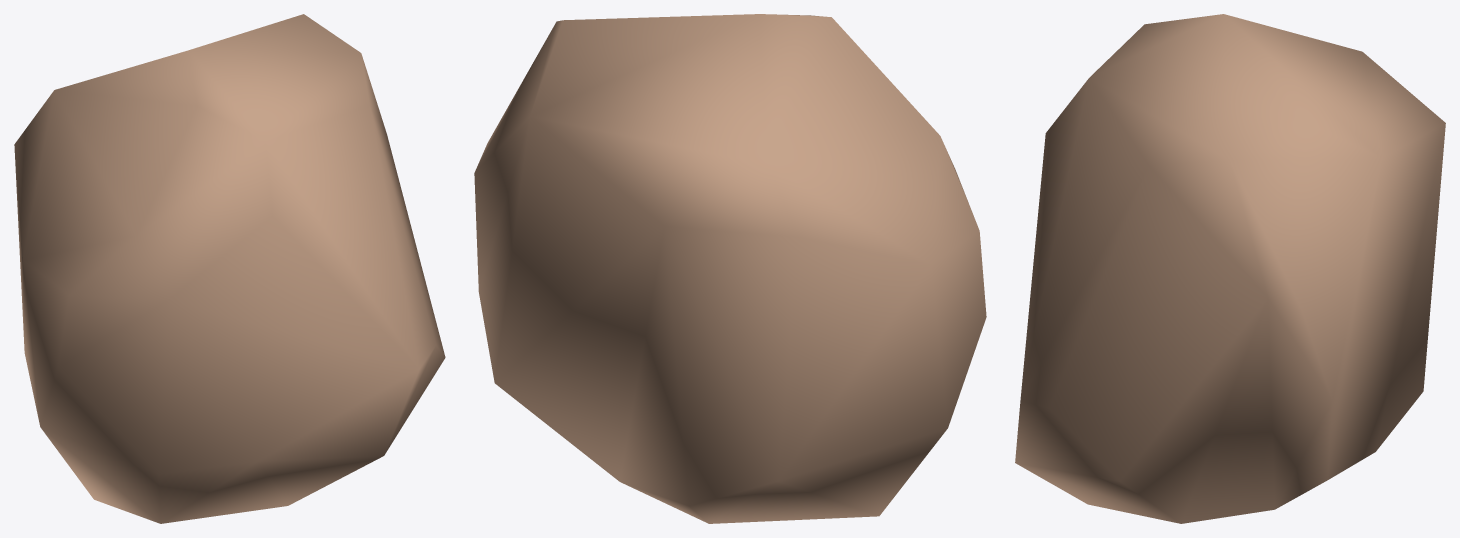
File: ZMOBA_Rock_B_6.FBX
3 renders of one model, left to right at view 1: azimuth 30°, elevation 25°; view 2: azimuth 150°, elevation 25°; view 3: azimuth 270°, elevation 25°, orthographic. The views are drawn at different scales.
Visible parts, largest first — view 1: ZMOBA_Rock_B_6; view 2: ZMOBA_Rock_B_6; view 3: ZMOBA_Rock_B_6.
Part boxes in pixels (bbox=[...]): ZMOBA_Rock_B_6: bbox=[14, 14, 445, 523]; ZMOBA_Rock_B_6: bbox=[474, 14, 986, 523]; ZMOBA_Rock_B_6: bbox=[1015, 14, 1445, 523].
Bounding box in the file's own units: 136 × 142 × 120.
